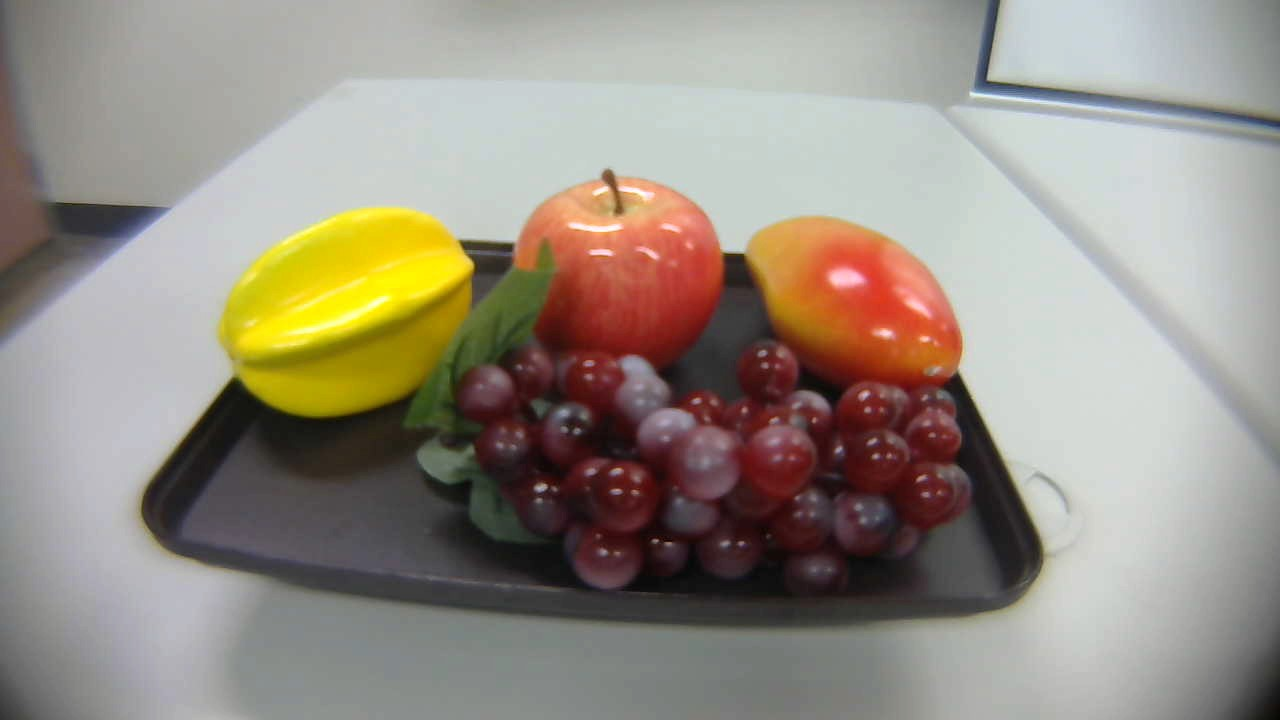grape: (390, 236, 990, 609)
red apple: (505, 163, 725, 384)
red mango: (733, 208, 973, 389)
star fruit: (215, 196, 477, 423)
